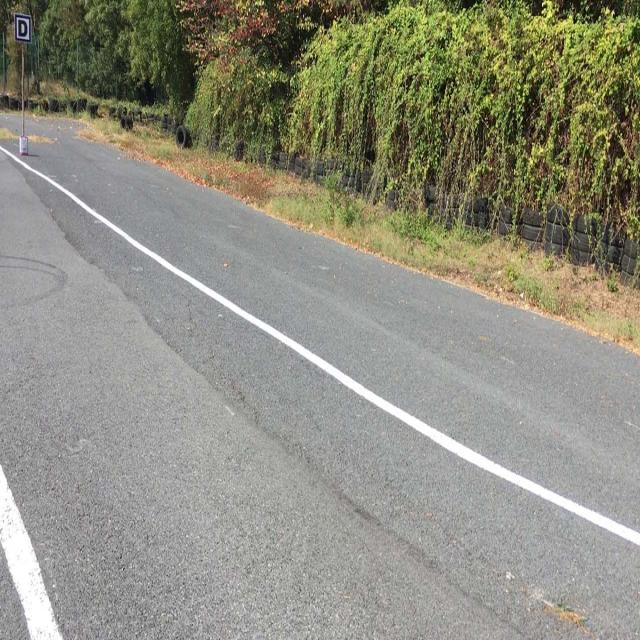durak: (14, 12, 31, 41)
